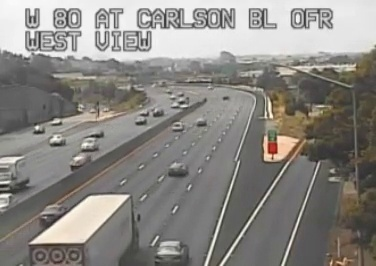car: (154, 241, 188, 265), (40, 205, 67, 225), (168, 163, 188, 177), (171, 122, 182, 131)
truck: (28, 193, 137, 266)
